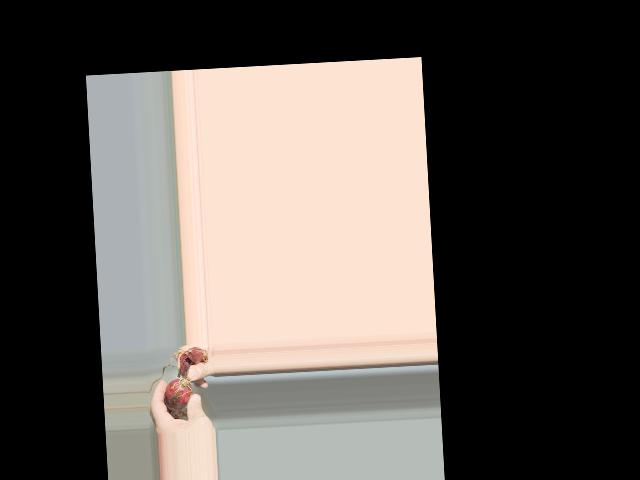onion: (164, 378, 193, 406)
